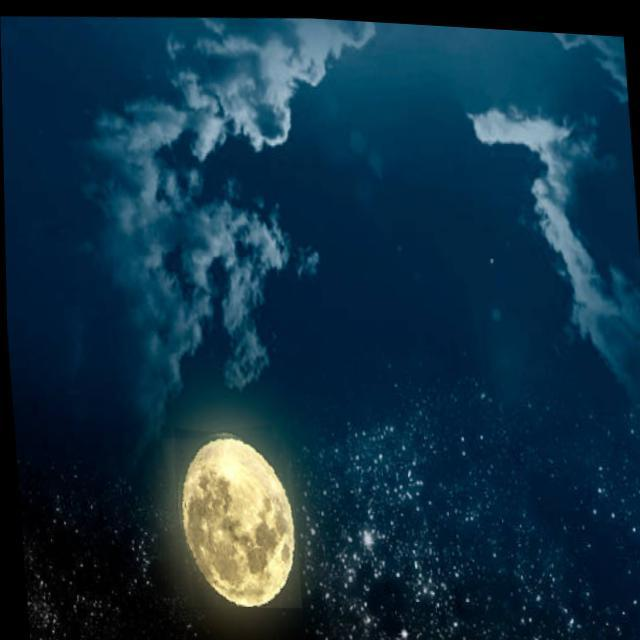moon: (164, 419, 300, 612)
